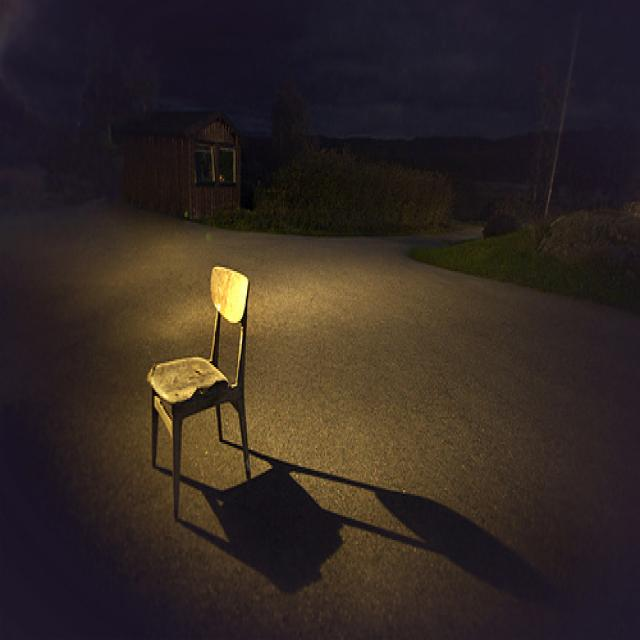chair: (147, 266, 251, 526)
